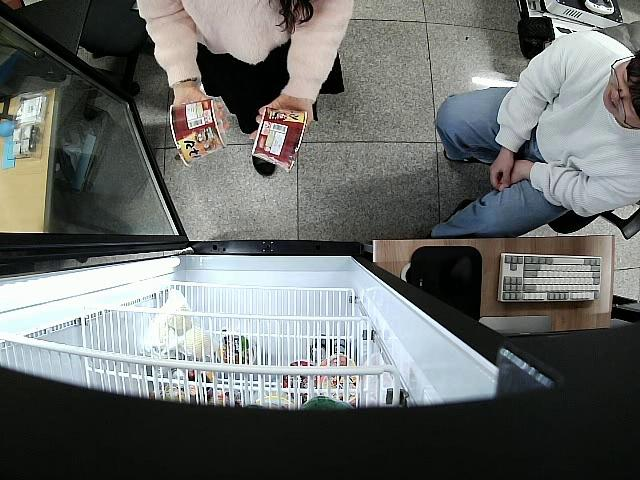00_hand: (251, 103, 312, 143), (173, 89, 231, 131)
05_nuguri_L: (249, 106, 309, 176), (169, 99, 228, 168)
